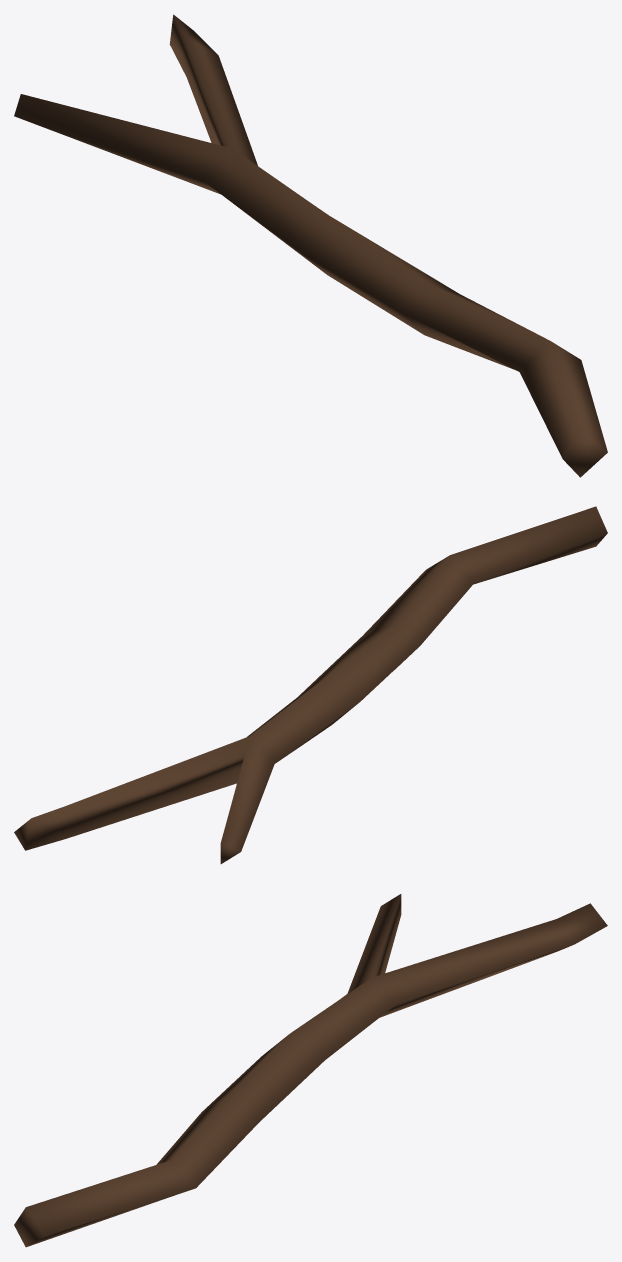
Rendered from miniBranch.fbx.
The picture shows the model from 3 angles, top to bottom: view 1: azimuth 30°, elevation 25°; view 2: azimuth 150°, elevation 25°; view 3: azimuth 330°, elevation 25°; orthographic projection. The views are drawn at different scales.
Parts seen in each view (by area): view 1: branch; view 2: branch; view 3: branch.
Part boxes in pixels (x1,y1,x2,y2): branch: (14,14,607,477); branch: (14,506,607,863); branch: (14,894,607,1247).
Size of the model in its own units: 28.11 by 7.34 by 118.
